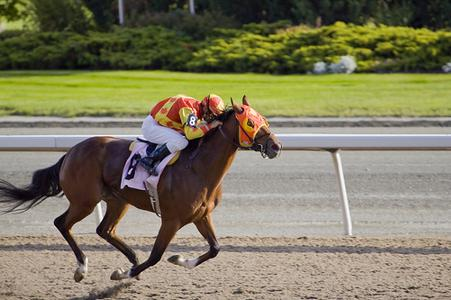person: (141, 95, 227, 178)
